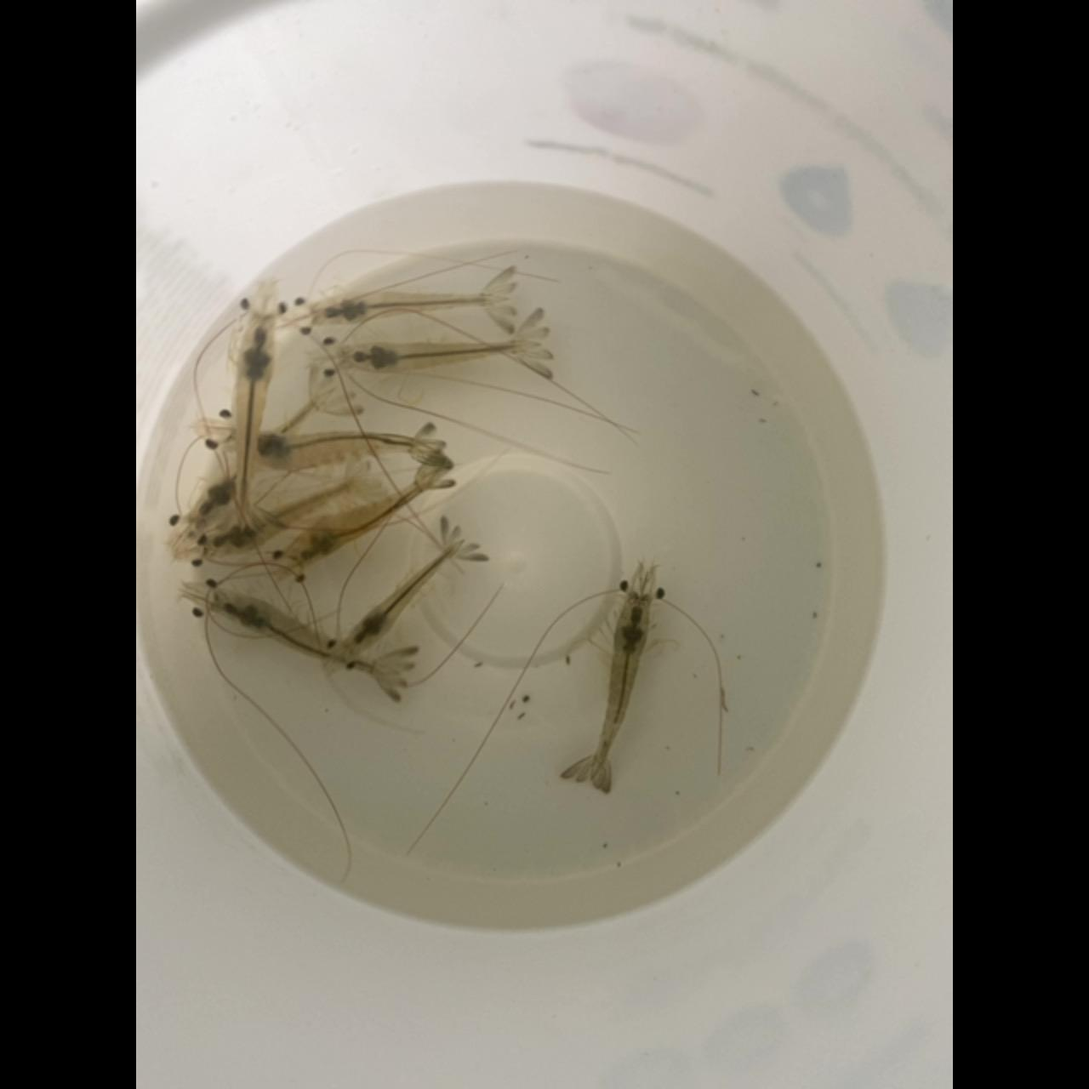side_shrimp: (231, 423, 439, 473)
top_shrimp: (188, 387, 337, 531), (213, 588, 403, 674), (288, 468, 441, 567), (342, 539, 466, 654), (202, 475, 373, 556), (591, 596, 650, 782), (235, 314, 276, 534), (313, 288, 512, 324), (342, 340, 544, 375)
